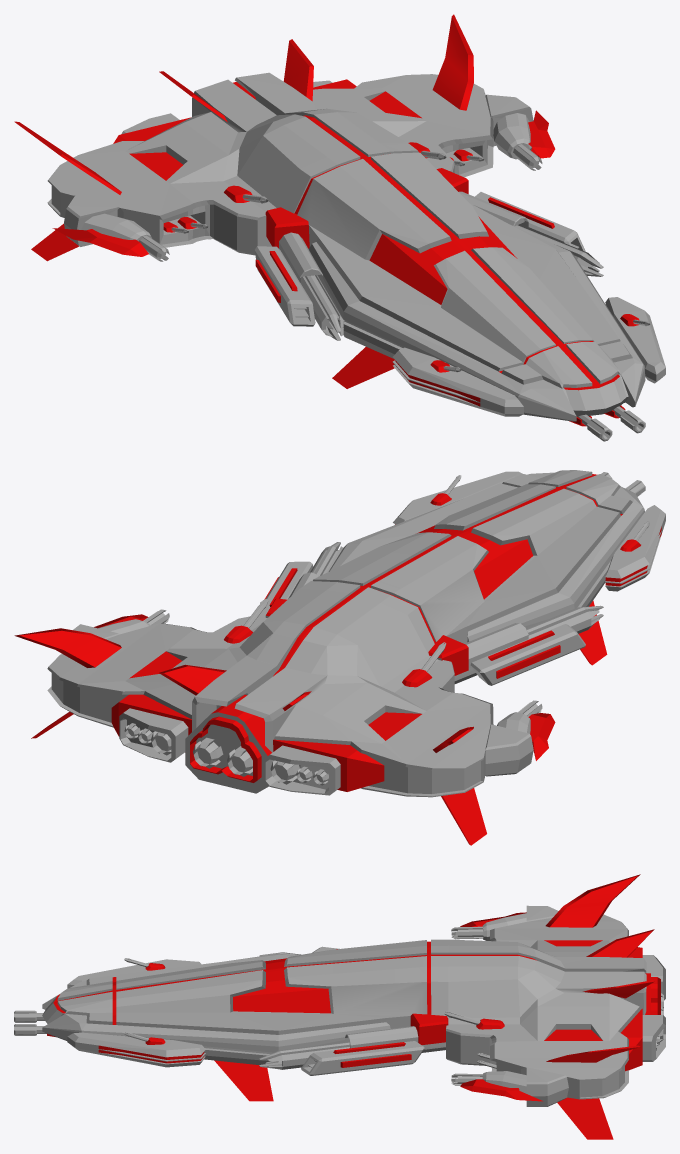
File: Genyx6.fbx
The picture shows the model from 3 angles, top to bottom: view 1: azimuth 30°, elevation 25°; view 2: azimuth 150°, elevation 25°; view 3: azimuth 270°, elevation 25°; orthographic projection. The views are drawn at different scales.
Parts seen in each view (by area): view 1: Genyx6_diffuse, Genyx6_color; view 2: Genyx6_diffuse, Genyx6_color; view 3: Genyx6_diffuse, Genyx6_color.
Boxes of the visible parts, box(x1,y1,x2,y2) form: Genyx6_diffuse: box(47, 72, 665, 441); Genyx6_color: box(14, 14, 639, 426); Genyx6_diffuse: box(47, 470, 665, 797); Genyx6_color: box(14, 474, 661, 845); Genyx6_diffuse: box(14, 905, 665, 1106); Genyx6_color: box(47, 874, 660, 1139).
Bounding box in the file's own units: 13.48 × 3.28 × 19.55.
